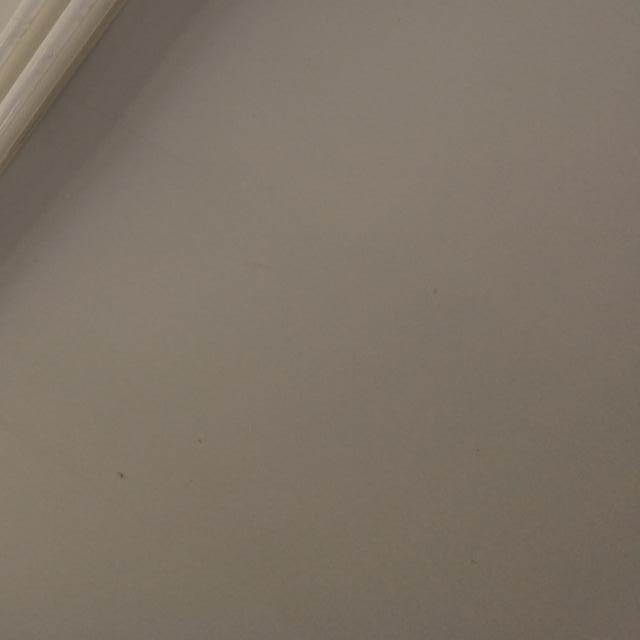fluorescent tube: (0, 0, 361, 421)
